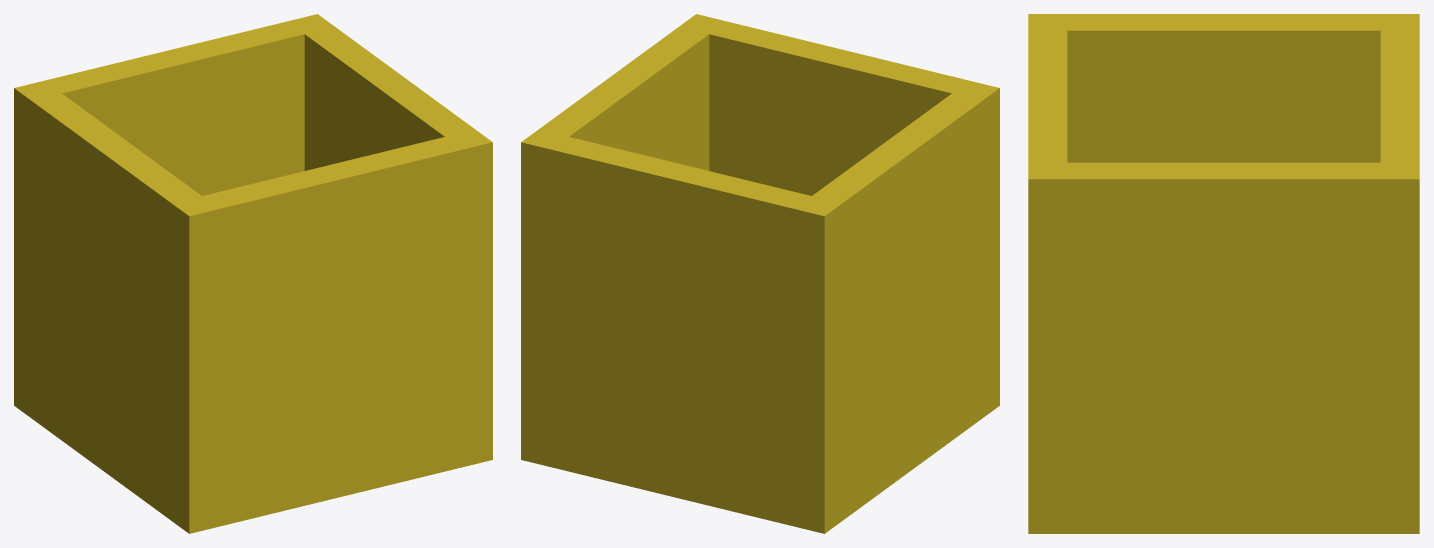
Rendered from CubePlayerB.fbx.
3 views of the same model, side by side, from view 1: azimuth 30°, elevation 25°; view 2: azimuth 150°, elevation 25°; view 3: azimuth 270°, elevation 25° (orthographic). The views are drawn at different scales.
Parts seen in each view (by area): view 1: CubeB; view 2: CubeB; view 3: CubeB.
Boxes of the visible parts, <box> form: CubeB: <box>14,14,492,533</box>; CubeB: <box>521,14,999,533</box>; CubeB: <box>1028,14,1419,533</box>.
Size of the model in its own units: 200 by 200 by 200.
